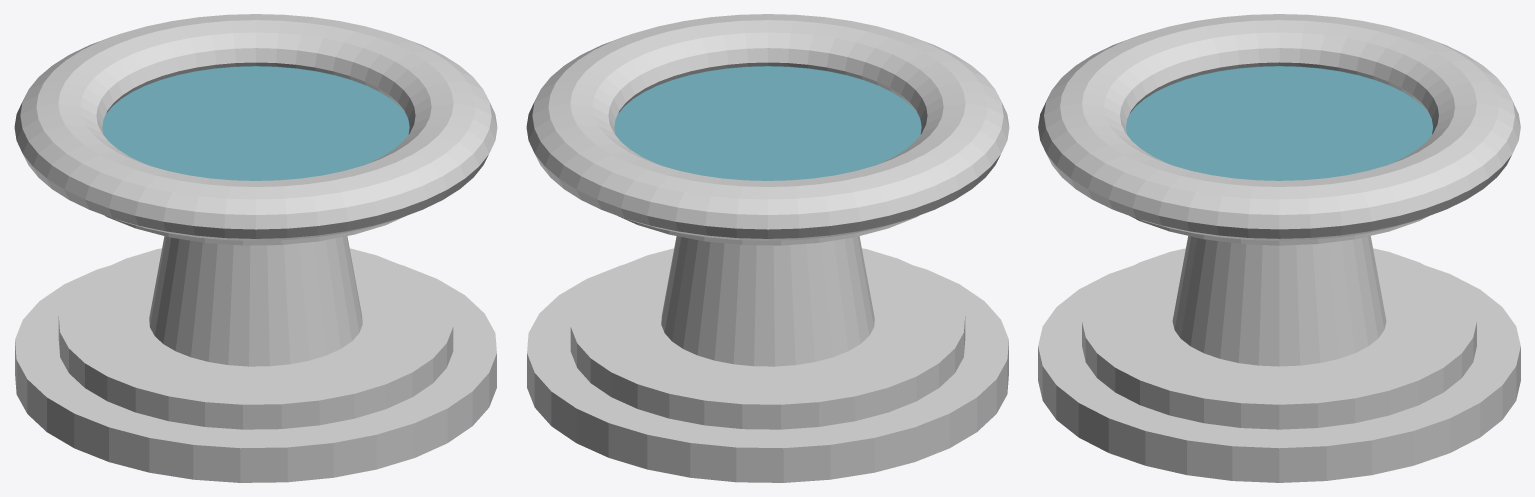
3 renders of one model, left to right at view 1: azimuth 30°, elevation 25°; view 2: azimuth 150°, elevation 25°; view 3: azimuth 270°, elevation 25°, orthographic.
Visible parts, largest first — view 1: Bowl, Mid_Ring, Base_Bottom, Bowl_Base, Water_Pool, Pedestal; view 2: Bowl, Mid_Ring, Base_Bottom, Bowl_Base, Water_Pool, Pedestal; view 3: Bowl, Mid_Ring, Base_Bottom, Bowl_Base, Water_Pool, Pedestal.
Boxes of the visible parts, <box> form: Bowl: <box>14,14,497,240</box>; Mid_Ring: <box>58,248,453,429</box>; Base_Bottom: <box>15,265,496,482</box>; Bowl_Base: <box>103,67,408,245</box>; Water_Pool: <box>102,66,409,180</box>; Pedestal: <box>149,236,362,366</box>; Bowl: <box>526,14,1009,240</box>; Mid_Ring: <box>570,248,965,429</box>; Base_Bottom: <box>527,265,1008,482</box>; Bowl_Base: <box>615,67,920,245</box>; Water_Pool: <box>614,66,921,180</box>; Pedestal: <box>661,236,874,366</box>; Bowl: <box>1038,14,1520,240</box>; Mid_Ring: <box>1082,248,1476,429</box>; Base_Bottom: <box>1038,265,1520,482</box>; Bowl_Base: <box>1126,67,1432,245</box>; Water_Pool: <box>1126,66,1432,180</box>; Pedestal: <box>1172,236,1386,366</box>.
Bounding box in the file's own units: 4.4 × 2.79 × 4.4.
